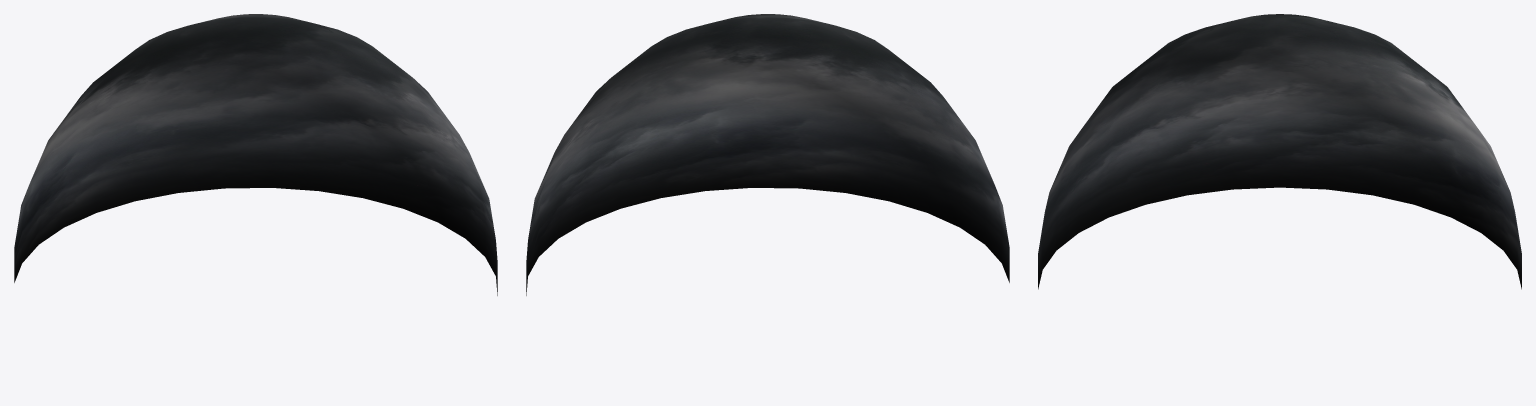
File: dome.gltf
3 views of the same model, side by side, from view 1: azimuth 30°, elevation 25°; view 2: azimuth 150°, elevation 25°; view 3: azimuth 270°, elevation 25° (orthographic).
Parts seen in each view (by area): view 1: Cube; view 2: Cube; view 3: Cube.
Boxes of the visible parts, x1,y1,x2,y2 form: Cube: (14,14,497,295); Cube: (526,14,1009,295); Cube: (1038,14,1521,289).
Bounding box in the file's own units: 2 × 1.17 × 2.
1 material, 1 textured.
